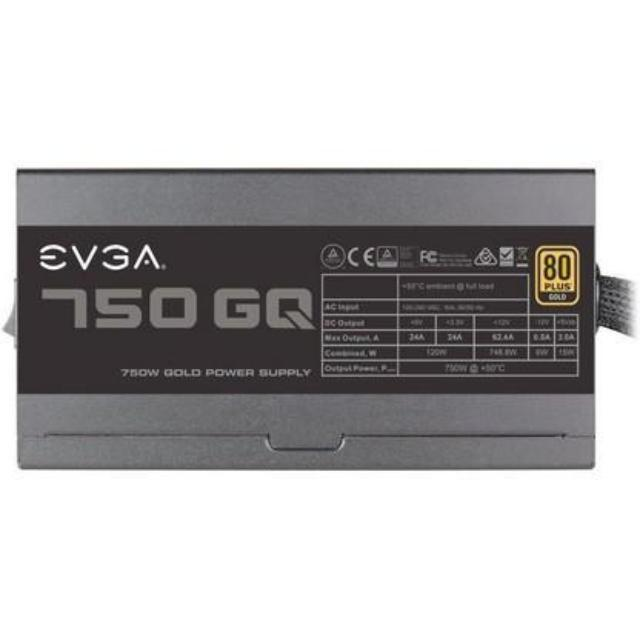PSU: (11, 158, 604, 490)
